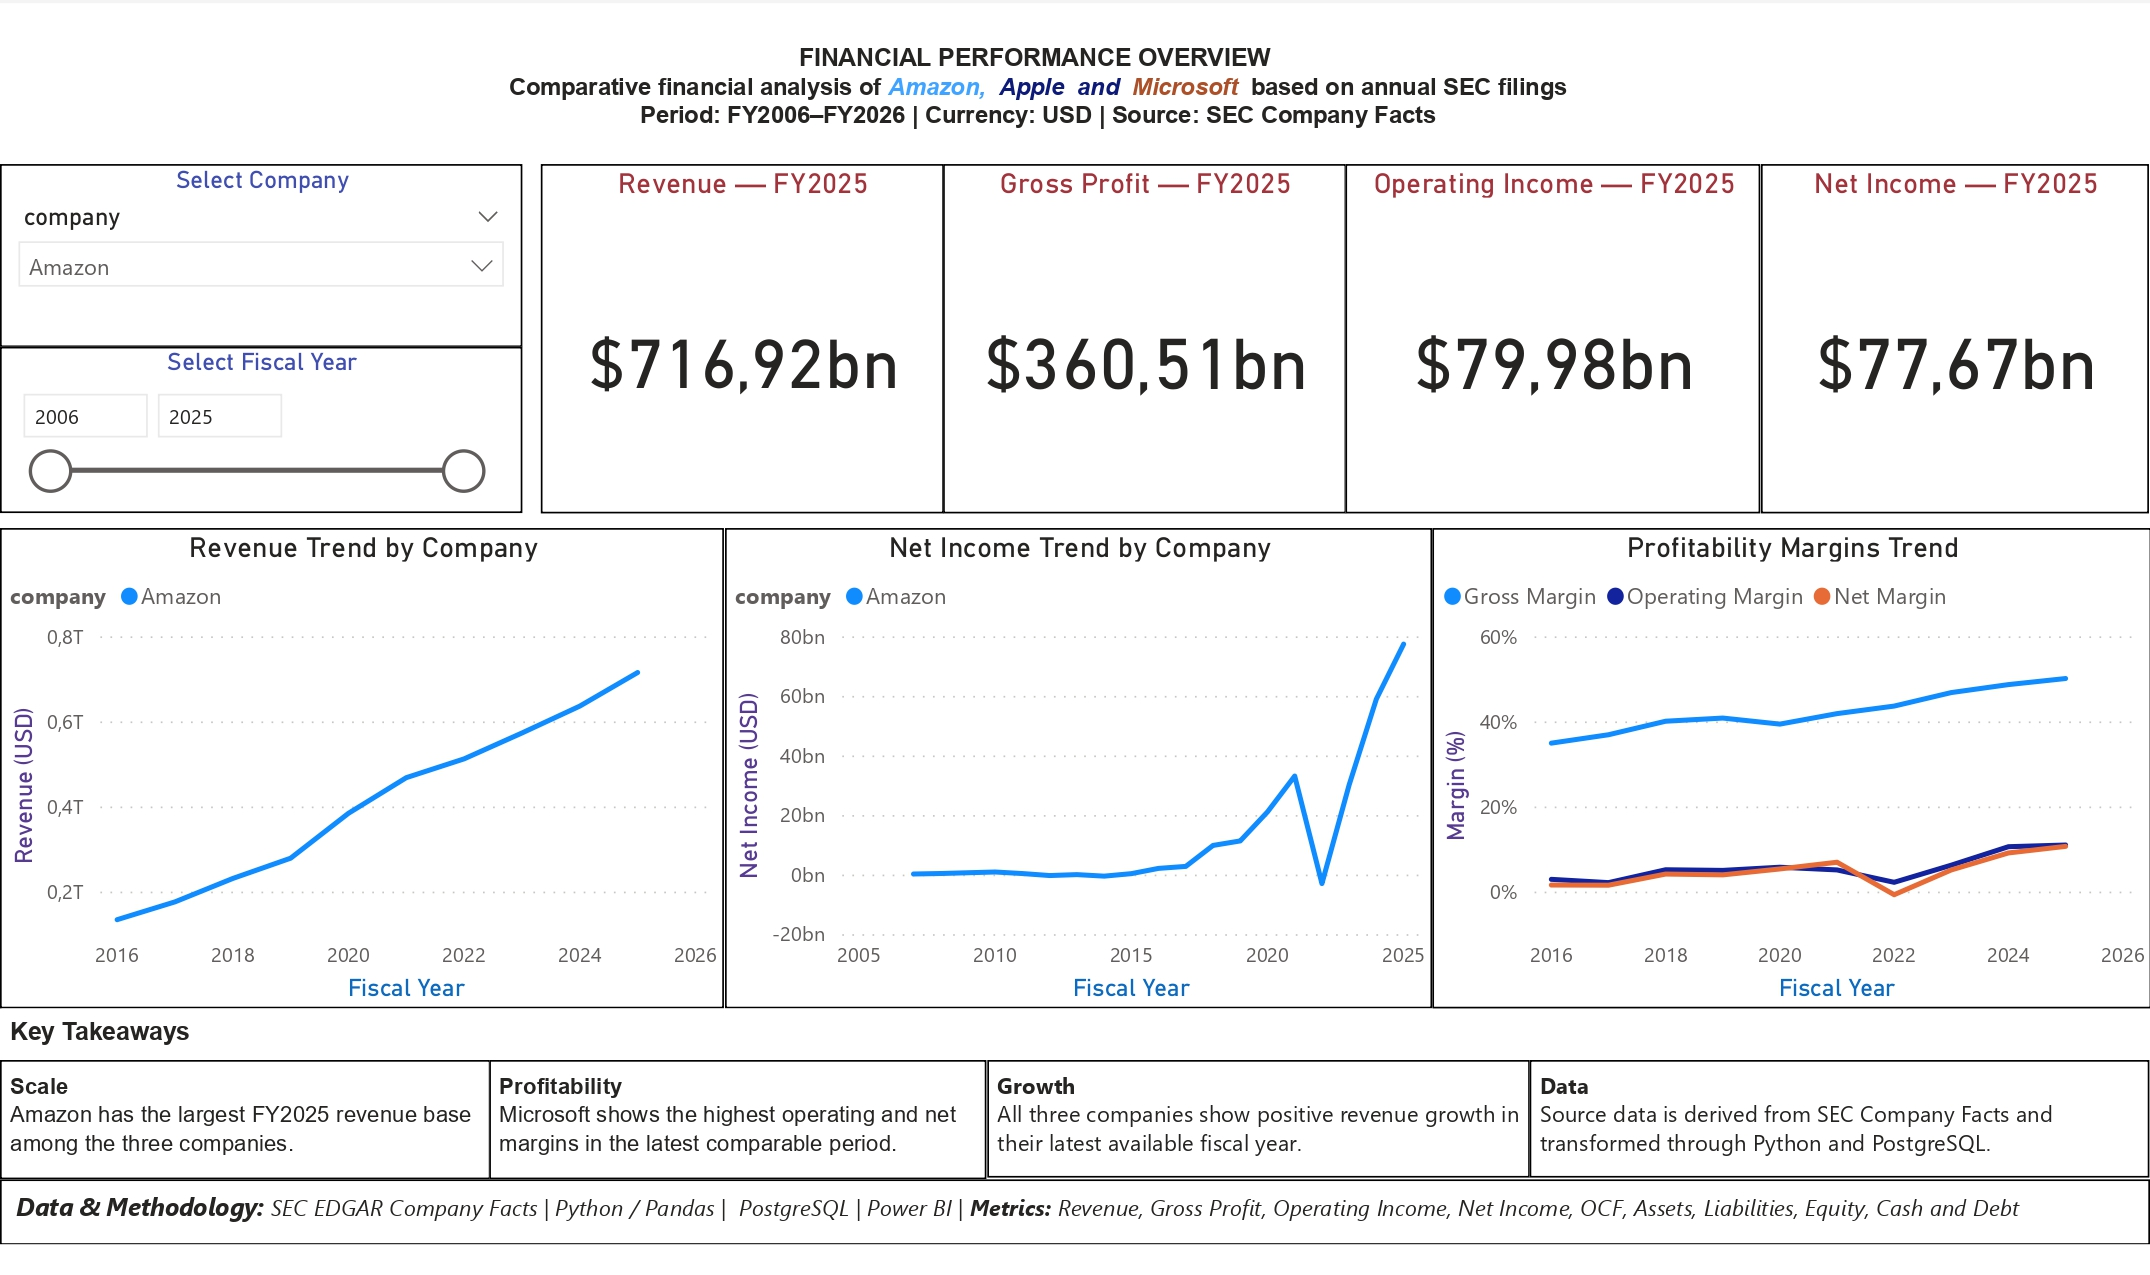

Layout of this report page (visuals, bound fields, positions):
{"tool":"powerbi","page":{"name":"Financial Overview","canvas":[1280,720],"ordinal":0},"visuals":[{"type":"slicer","title":"Select Company","fields":{"Values":["analytics bi_financials.company"]},"box":[0,77.4,310.6,108.6],"z":0},{"type":"slicer","title":"Select Fiscal Year","fields":{"Values":["analytics bi_financials.fiscal_year"]},"box":[0,186,310.6,99.1],"z":1000},{"type":"card","title":"Revenue — FY2025","fields":{"Values":["analytics bi_financials.Revenue 2025"]},"box":[321.9,77.4,239.8,207.7],"z":2000},{"type":"card","title":"Gross Profit — FY2025","fields":{"Values":["analytics bi_financials.Gross Profit 2025"]},"box":[561.7,77.4,239.8,207.7],"z":3000},{"type":"card","title":"Operating Income — FY2025","fields":{"Values":["analytics bi_financials.Operating Income 2025"]},"box":[801.4,77.4,247.3,207.7],"z":4000},{"type":"card","title":"Net Income — FY2025","fields":{"Values":["analytics bi_financials.Net Income 2025"]},"box":[1048.7,77.4,231.3,207.7],"z":5000},{"type":"lineChart","title":"Revenue Trend by Company","fields":{"Y":["analytics bi_financials.Total Revenue"],"Category":["analytics bi_financials.fiscal_year"],"Series":["analytics bi_financials.company"]},"box":[0,293.6,431.4,286],"z":6000},{"type":"lineChart","title":"Net Income Trend by Company","fields":{"Category":["analytics bi_financials.fiscal_year"],"Y":["analytics bi_financials.Total Net Income"],"Series":["analytics bi_financials.company"]},"box":[431.4,293.6,421,286],"z":7000},{"type":"lineChart","title":"Profitability Margins Trend","fields":{"Category":["analytics bi_financials.fiscal_year"],"Y":["analytics bi_financials.Gross Margin","analytics bi_financials.Operating Margin","analytics bi_financials.Net Margin"]},"box":[852.4,293.6,427.6,286],"z":8000},{"type":"textbox","box":[92.5,0,1051.6,77.4],"z":9000},{"type":"textbox","box":[0.9,579.6,852.4,31.2],"z":10000},{"type":"textbox","box":[0,610.7,291.7,70.8],"z":11000},{"type":"textbox","box":[291.7,610.7,296.4,70.8],"z":12000},{"type":"textbox","box":[588.1,610.7,322.8,69.9],"z":13000},{"type":"textbox","box":[910.9,610.7,369.1,69.9],"z":14000},{"type":"textbox","box":[0,681.5,1280,38.7],"z":15000}]}

Visuals, with their boxes in screenshot pixels (x1, y1, x2, y2):
"Select Company" slicer: <region>11, 173, 526, 353</region>
"Select Fiscal Year" slicer: <region>11, 353, 526, 517</region>
"Revenue — FY2025" card: <region>544, 173, 942, 517</region>
"Gross Profit — FY2025" card: <region>942, 173, 1339, 517</region>
"Operating Income — FY2025" card: <region>1339, 173, 1748, 517</region>
"Net Income — FY2025" card: <region>1748, 173, 2131, 517</region>
"Revenue Trend by Company" lineChart: <region>11, 531, 726, 1005</region>
"Net Income Trend by Company" lineChart: <region>726, 531, 1423, 1005</region>
"Profitability Margins Trend" lineChart: <region>1423, 531, 2131, 1005</region>
textbox: <region>164, 45, 1906, 173</region>
textbox: <region>13, 1005, 1425, 1057</region>
textbox: <region>11, 1056, 494, 1174</region>
textbox: <region>494, 1056, 985, 1174</region>
textbox: <region>985, 1056, 1520, 1172</region>
textbox: <region>1520, 1056, 2131, 1172</region>
textbox: <region>11, 1174, 2131, 1238</region>
